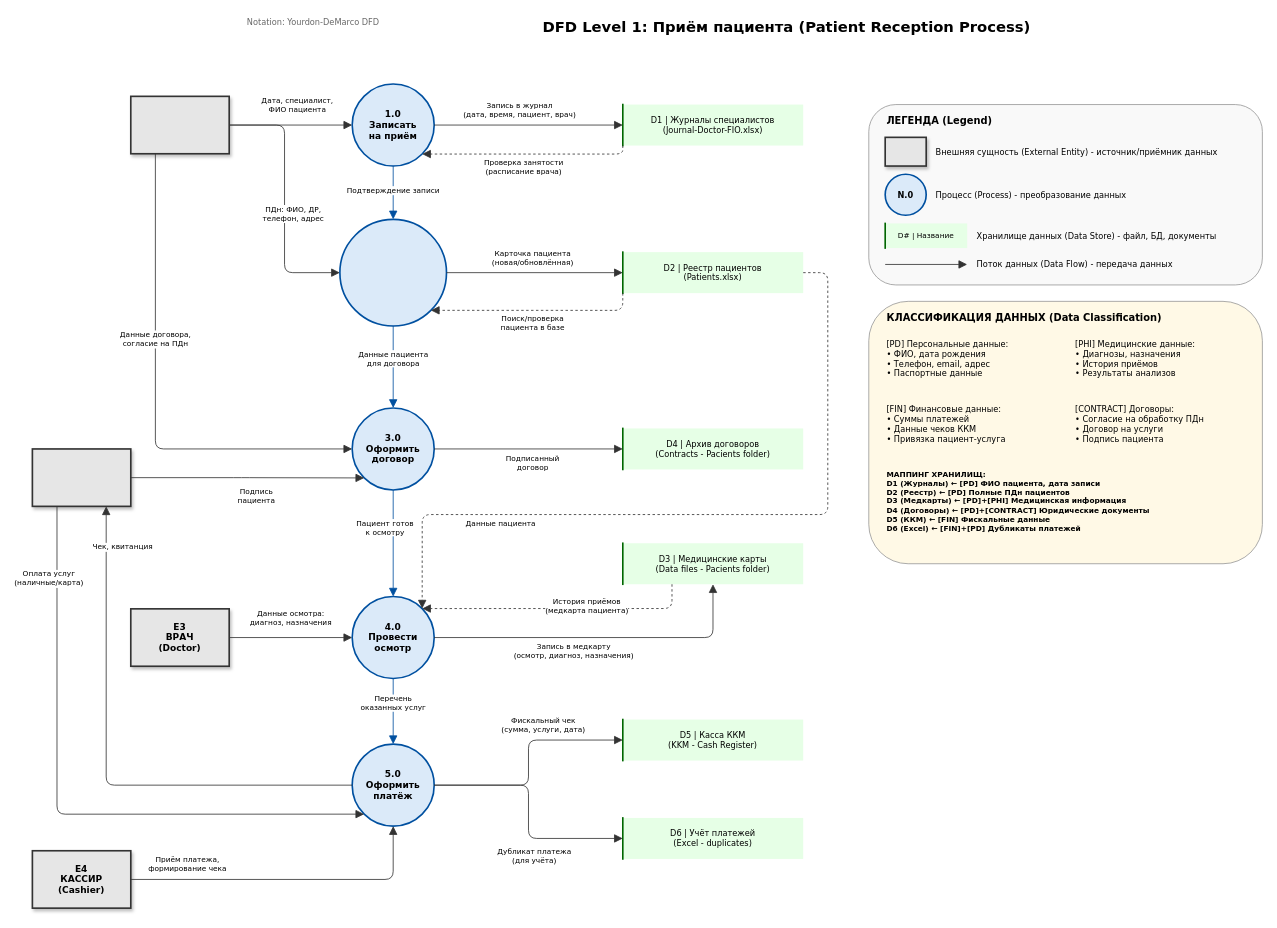
Image size: 1277x928. Some labels were removed from this diagram. The shapes that lost their labels are listed below. From the top down, each one's centre as x and y in pixels, then its label:
At (180,126): "E2 АДМИНИСТРАТОР (Receptionist)".
At (906,152): "E#".
At (393,272): "2.0 Зарегистрировать пациента".
At (82,478): "E1 ПАЦИЕНТ (Patient)".
